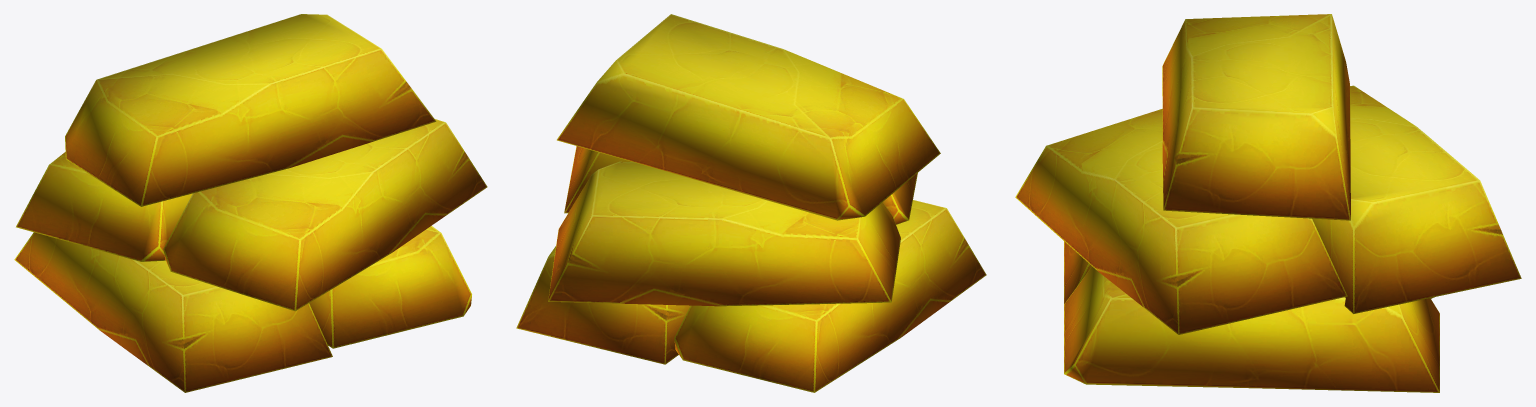
File: gold1v1.obj
The picture shows the model from 3 angles, left to right: view 1: azimuth 30°, elevation 25°; view 2: azimuth 150°, elevation 25°; view 3: azimuth 270°, elevation 25°; orthographic projection. The views are drawn at different scales.
Visible parts, largest first — view 1: Gold_07, Gold_01, Gold_11; view 2: Gold_07, Gold_01, Gold_11; view 3: Gold_07, Gold_01, Gold_11.
Part boxes in pixels (box(x1,y1,x2,y2)): Gold_07: box(14, 152, 471, 392); Gold_01: box(65, 14, 436, 206); Gold_11: box(163, 119, 487, 311); Gold_07: box(516, 161, 986, 392); Gold_01: box(557, 14, 940, 220); Gold_11: box(564, 146, 917, 224); Gold_07: box(1064, 85, 1521, 392); Gold_01: box(1162, 14, 1350, 220); Gold_11: box(1015, 109, 1347, 334).
Bounding box in the file's own units: 7.83 × 4.56 × 7.96.
